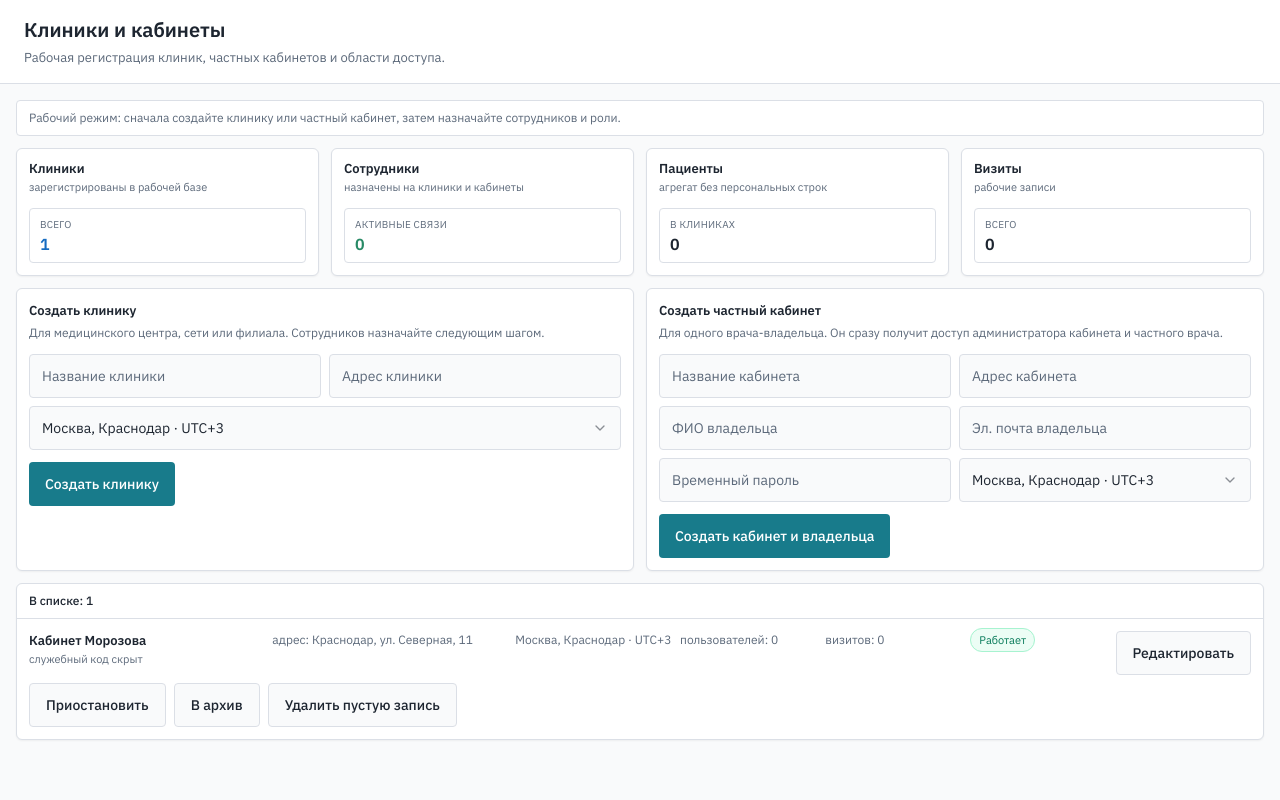
Test case: Production admin management UI › suspends, reactivates, archives, and deletes an empty clinic through visible controls
The image size is (1280, 800).
Check: the heading "Клиники и кабинеты" is shown, box [24,16,225,43]
Check: the text "Работает" is shown, box [970,628,1035,652]
Click the button "Приостановить".
click(97, 705)  # box [29,683,166,727]
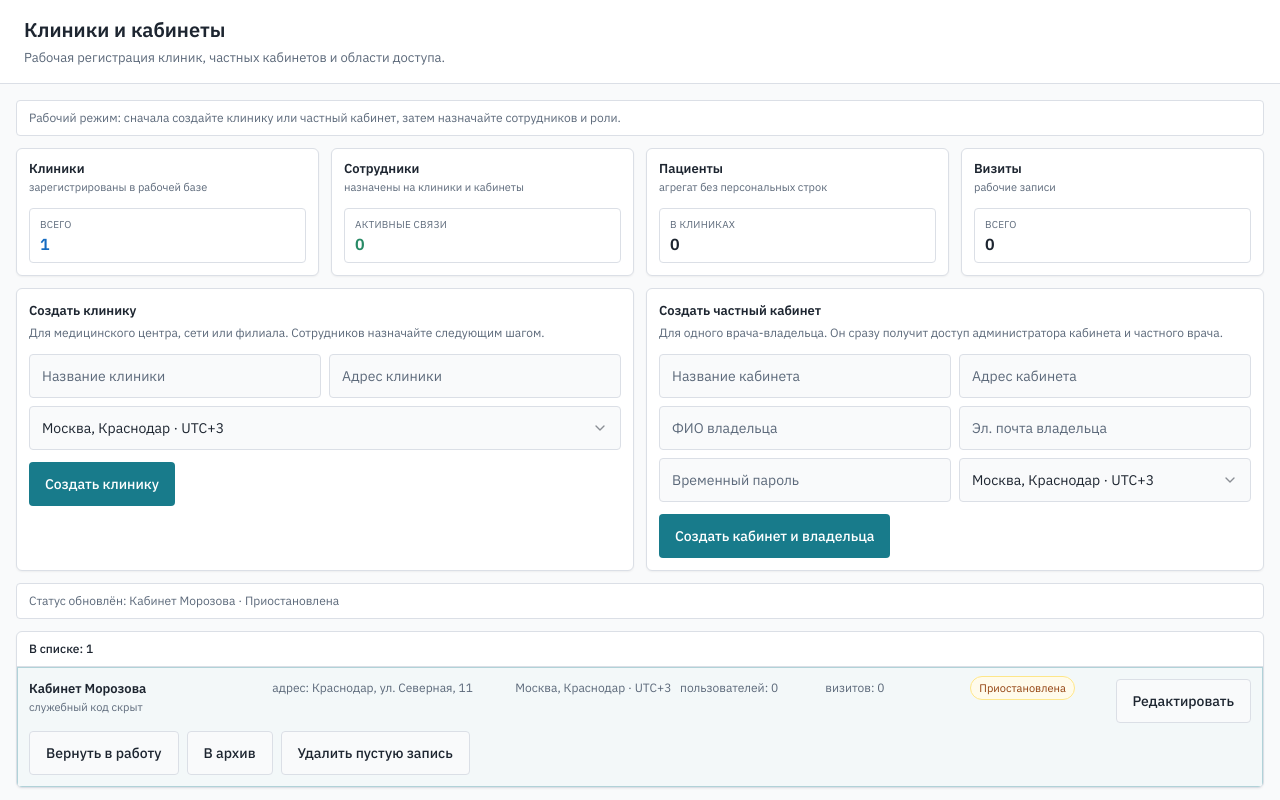
Check: the text "Статус обновлён: Кабинет Морозова · Приостановлена" is shown, box [16,583,1264,619]
Click the button "Вернуть в работу".
click(104, 753)  # box [29,731,178,775]
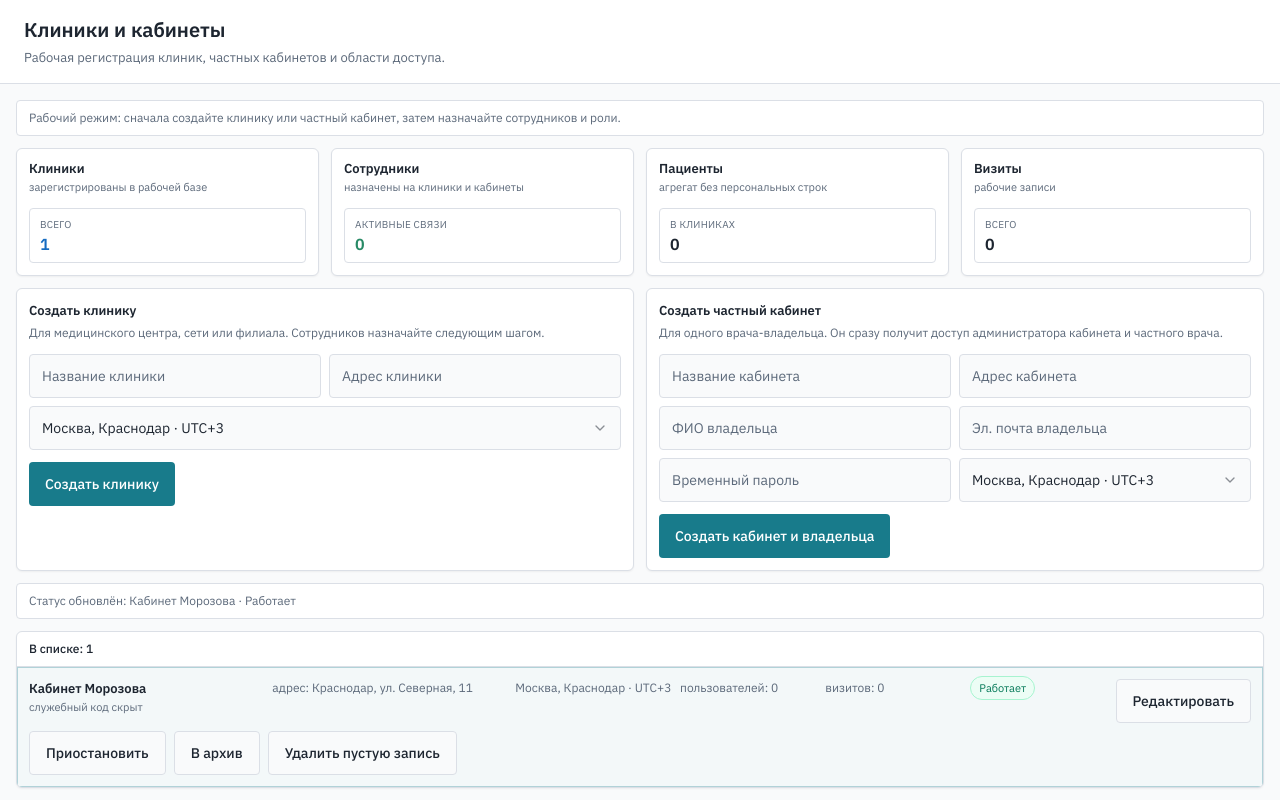
Check: the text "Статус обновлён: Кабинет Морозова · Работает" is shown, box [16,583,1264,619]
Click the button "В архив".
click(217, 753)  # box [174,731,260,775]
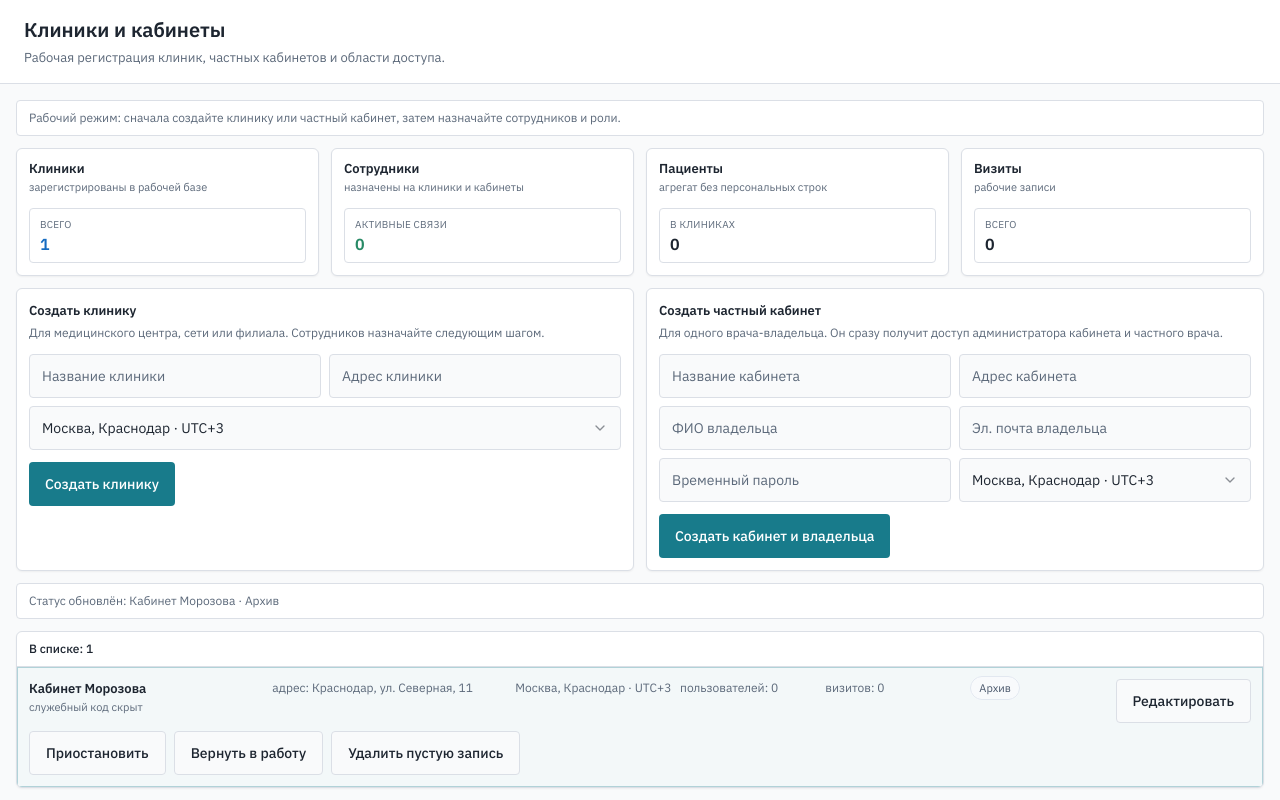
Check: the text "Статус обновлён: Кабинет Морозова · Архив" is shown, box [16,583,1264,619]
Click the button "Удалить пустую запись".
click(426, 753)  # box [331,731,520,775]
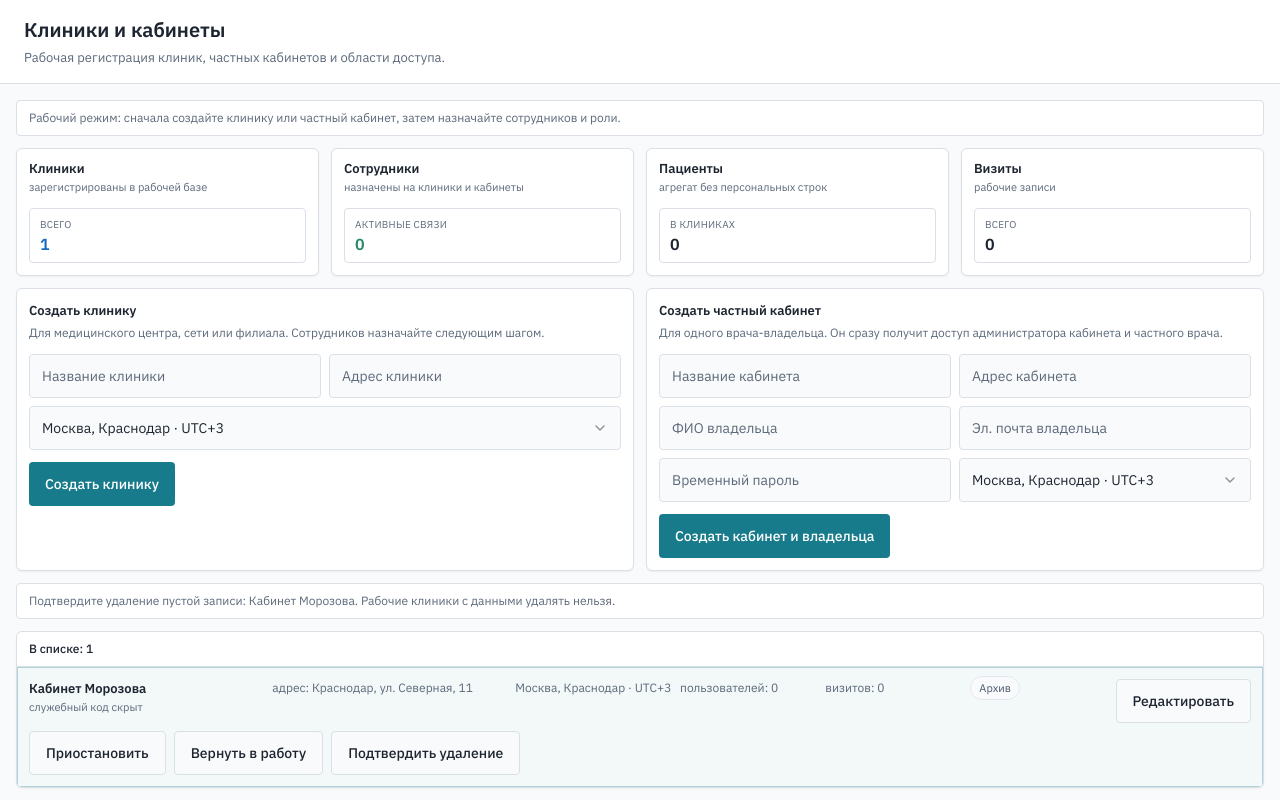
Check: the text "Подтвердите удаление пустой записи" is shown, box [29,593,615,608]
Click the button "Подтвердить удаление".
click(426, 753)  # box [331,731,520,775]
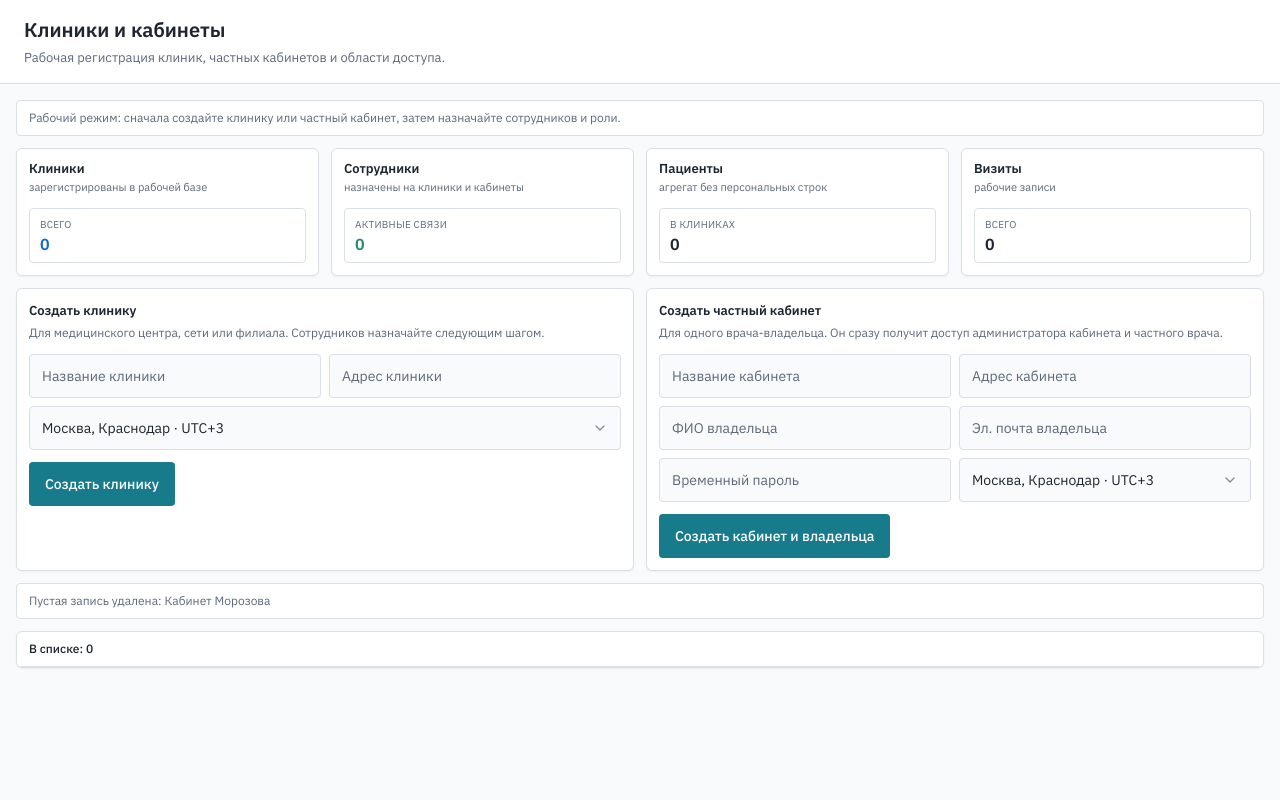
Check: the text "Пустая запись удалена: Кабинет Морозова" is shown, box [16,583,1264,619]
